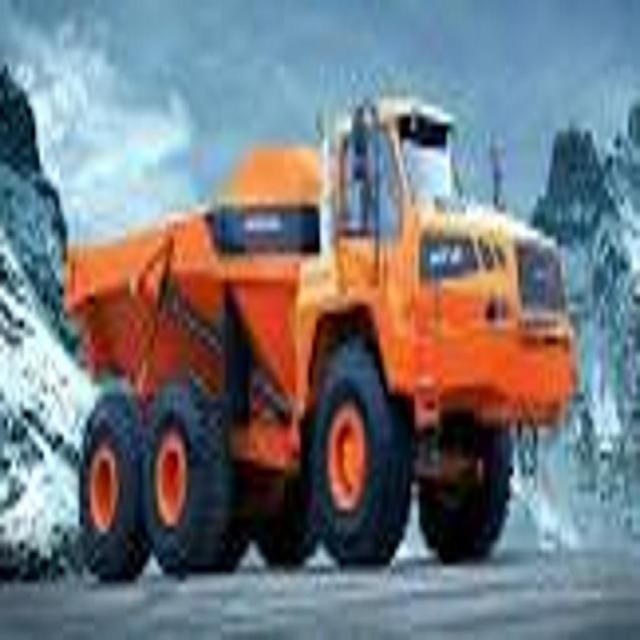dump_truck: (62, 82, 580, 570)
